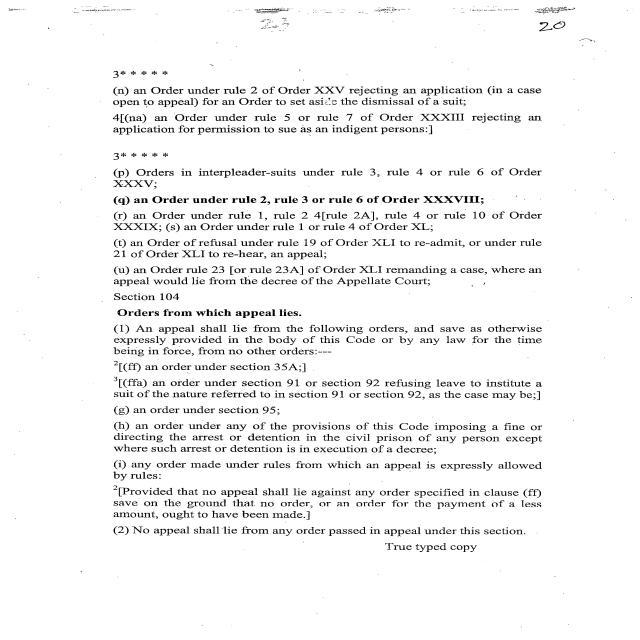page-number: (461, 0, 640, 81)
